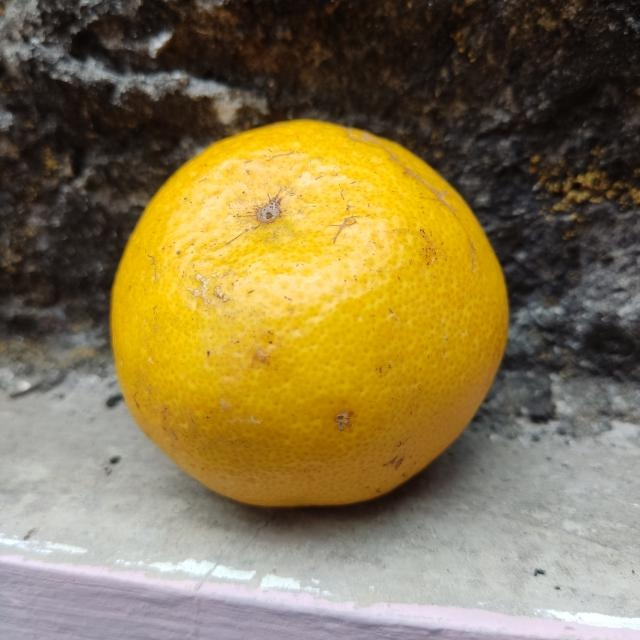agrume: (103, 118, 513, 510)
